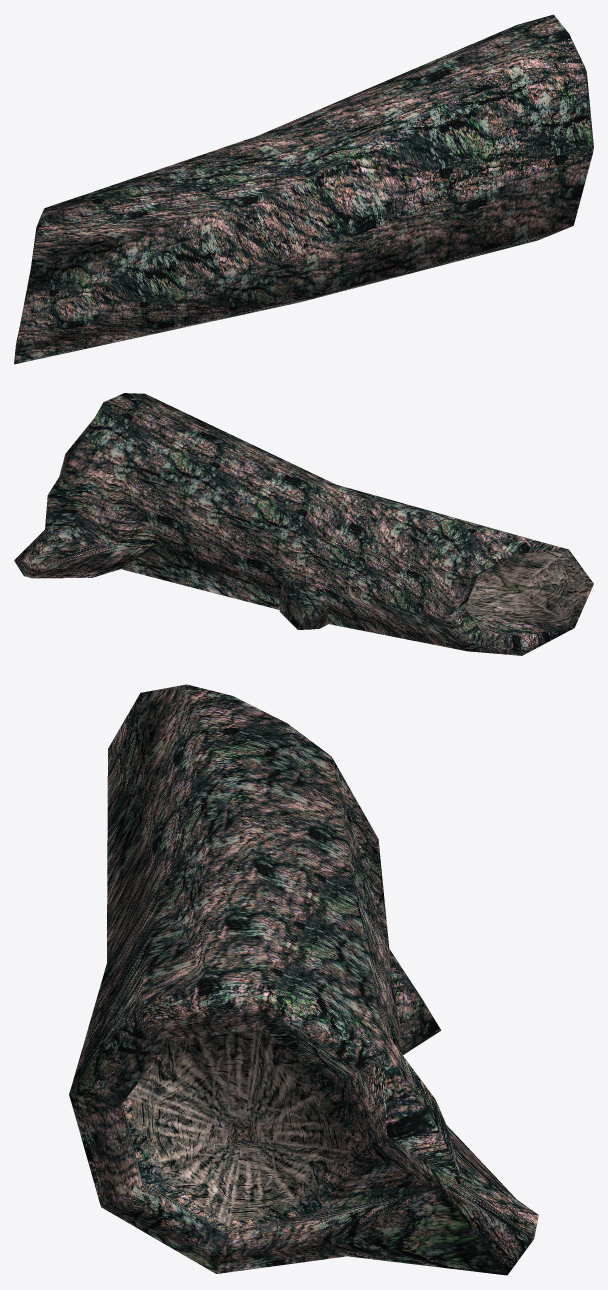
File: decd_dath_blacktreelog_l0.fbx
3 views of the same model, one above another, from view 1: azimuth 30°, elevation 25°; view 2: azimuth 150°, elevation 25°; view 3: azimuth 270°, elevation 25° (orthographic). The views are drawn at different scales.
Parts seen in each view (by area): view 1: mesh_node; view 2: mesh_node; view 3: mesh_node.
Boxes of the visible parts, box(x1,y1,x2,y2) form: mesh_node: box(14, 14, 593, 364); mesh_node: box(14, 393, 593, 655); mesh_node: box(69, 684, 538, 1275).
Bounding box in the file's own units: 6.89 × 2.28 × 2.96.
